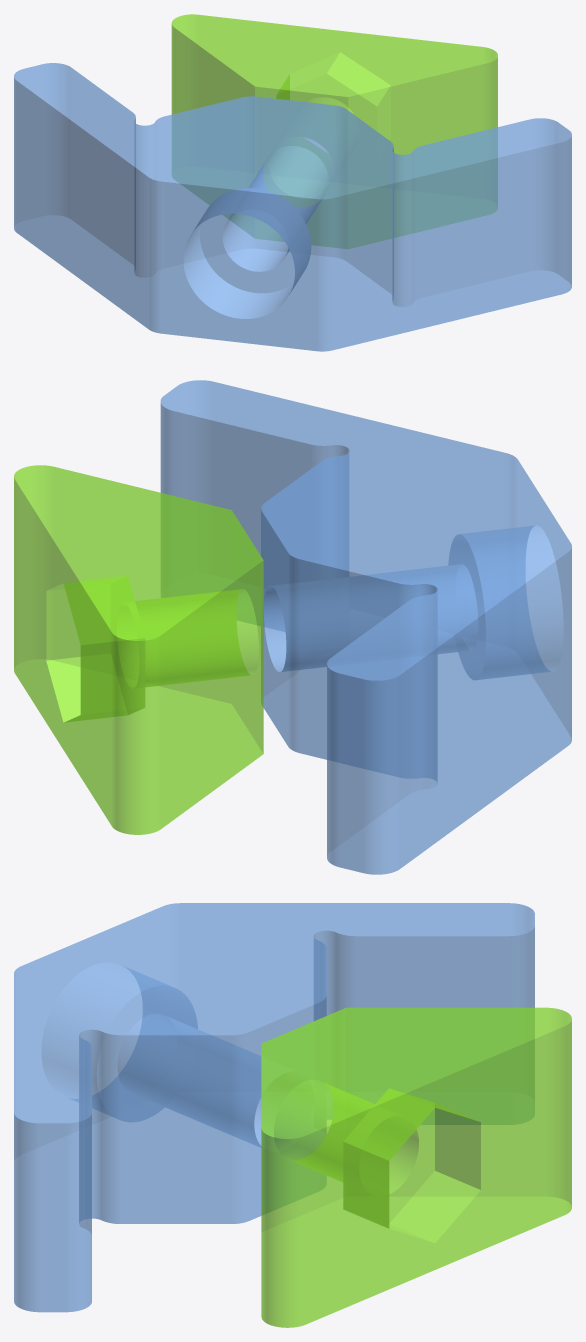
File: ply-connectors.glb
3 views of the same model, one above another, from view 1: azimuth 30°, elevation 25°; view 2: azimuth 150°, elevation 25°; view 3: azimuth 270°, elevation 25° (orthographic). The views are drawn at different scales.
Parts seen in each view (by area): view 1: bracket, jaw; view 2: bracket, jaw; view 3: bracket, jaw.
Boxes of the visible parts, x1,y1,x2,y2 form: bracket: [14, 63, 571, 351]; jaw: [171, 14, 497, 248]; bracket: [160, 380, 571, 874]; jaw: [14, 465, 263, 834]; bracket: [14, 903, 534, 1312]; jaw: [261, 1007, 571, 1327].
Size of the model in its own units: 42.84 by 16 by 42.84.
